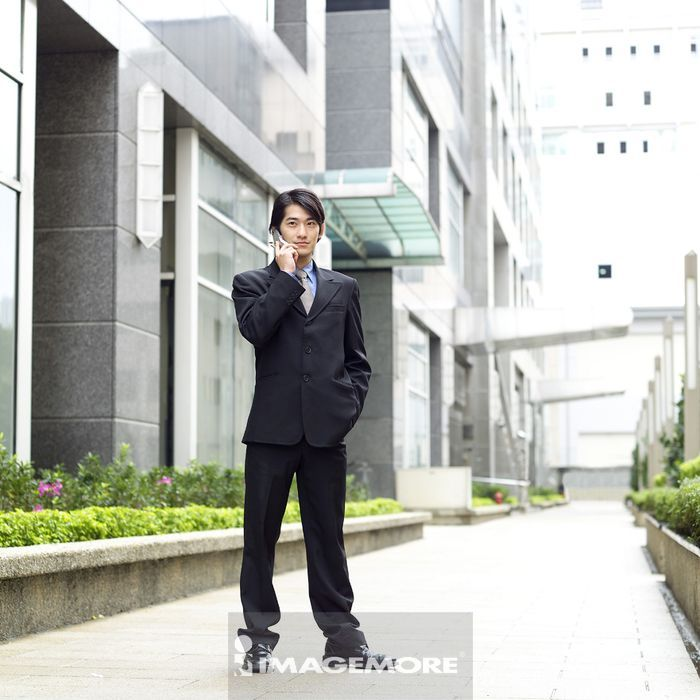talk: (271, 213, 319, 274)
